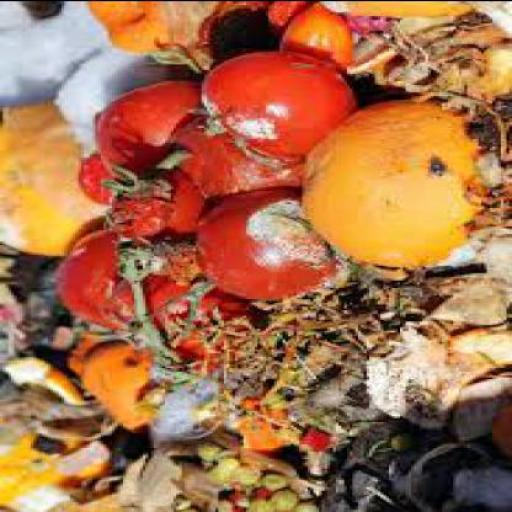biodegradable: (296, 94, 495, 264), (198, 46, 358, 166), (190, 184, 347, 298), (1, 99, 109, 251), (53, 212, 196, 326), (132, 274, 266, 368), (157, 114, 302, 200), (92, 74, 207, 176), (101, 145, 209, 239), (81, 1, 229, 68), (386, 15, 509, 95), (193, 1, 329, 65), (0, 430, 103, 510), (78, 339, 151, 430), (271, 2, 347, 76), (0, 354, 84, 400), (232, 393, 286, 454), (445, 322, 509, 370), (72, 149, 126, 201), (61, 331, 106, 378), (165, 460, 218, 499), (315, 1, 474, 11), (487, 387, 509, 459), (344, 11, 392, 36), (288, 423, 325, 450), (380, 428, 415, 450), (266, 486, 290, 510), (235, 460, 260, 482), (204, 466, 235, 482), (251, 472, 286, 486), (191, 438, 215, 458), (212, 445, 232, 467), (224, 488, 249, 503), (292, 497, 318, 510), (165, 490, 187, 504), (243, 496, 263, 510), (255, 490, 274, 501), (171, 503, 198, 510), (226, 503, 244, 510)
